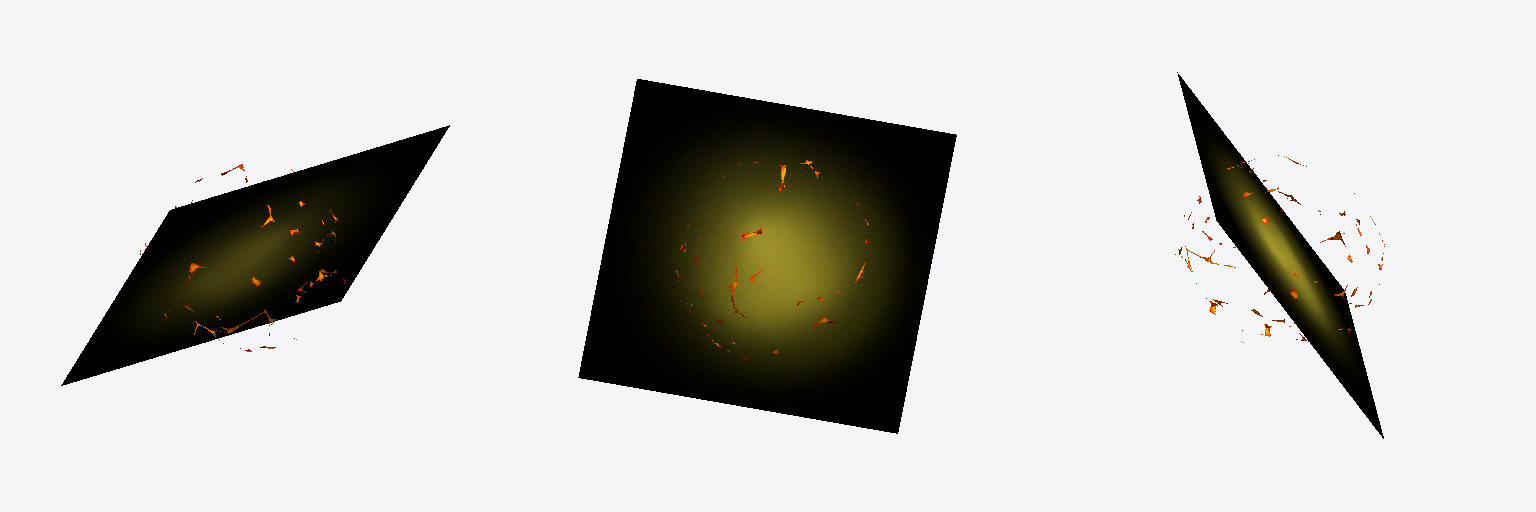
3 renders of one model, left to right at view 1: azimuth 30°, elevation 25°; view 2: azimuth 150°, elevation 25°; view 3: azimuth 270°, elevation 25°, orthographic.
Visible parts, largest first — view 1: creature_molten_meteor_molten_meteor.m2_Geoset_001, creature_molten_meteor_molten_meteor.m2_Geoset_000; view 2: creature_molten_meteor_molten_meteor.m2_Geoset_001, creature_molten_meteor_molten_meteor.m2_Geoset_000; view 3: creature_molten_meteor_molten_meteor.m2_Geoset_001, creature_molten_meteor_molten_meteor.m2_Geoset_000.
Part boxes in pixels (left/top/right/bottom): creature_molten_meteor_molten_meteor.m2_Geoset_001: left=61, top=125, right=449, bottom=385; creature_molten_meteor_molten_meteor.m2_Geoset_000: left=140, top=164, right=345, bottom=351; creature_molten_meteor_molten_meteor.m2_Geoset_001: left=578, top=79, right=956, bottom=433; creature_molten_meteor_molten_meteor.m2_Geoset_000: left=676, top=160, right=868, bottom=358; creature_molten_meteor_molten_meteor.m2_Geoset_001: left=1177, top=72, right=1383, bottom=438; creature_molten_meteor_molten_meteor.m2_Geoset_000: left=1175, top=155, right=1384, bottom=342.
Bounding box in the file's own units: 8.45 × 5.81 × 4.71.
2 materials, 2 textured.